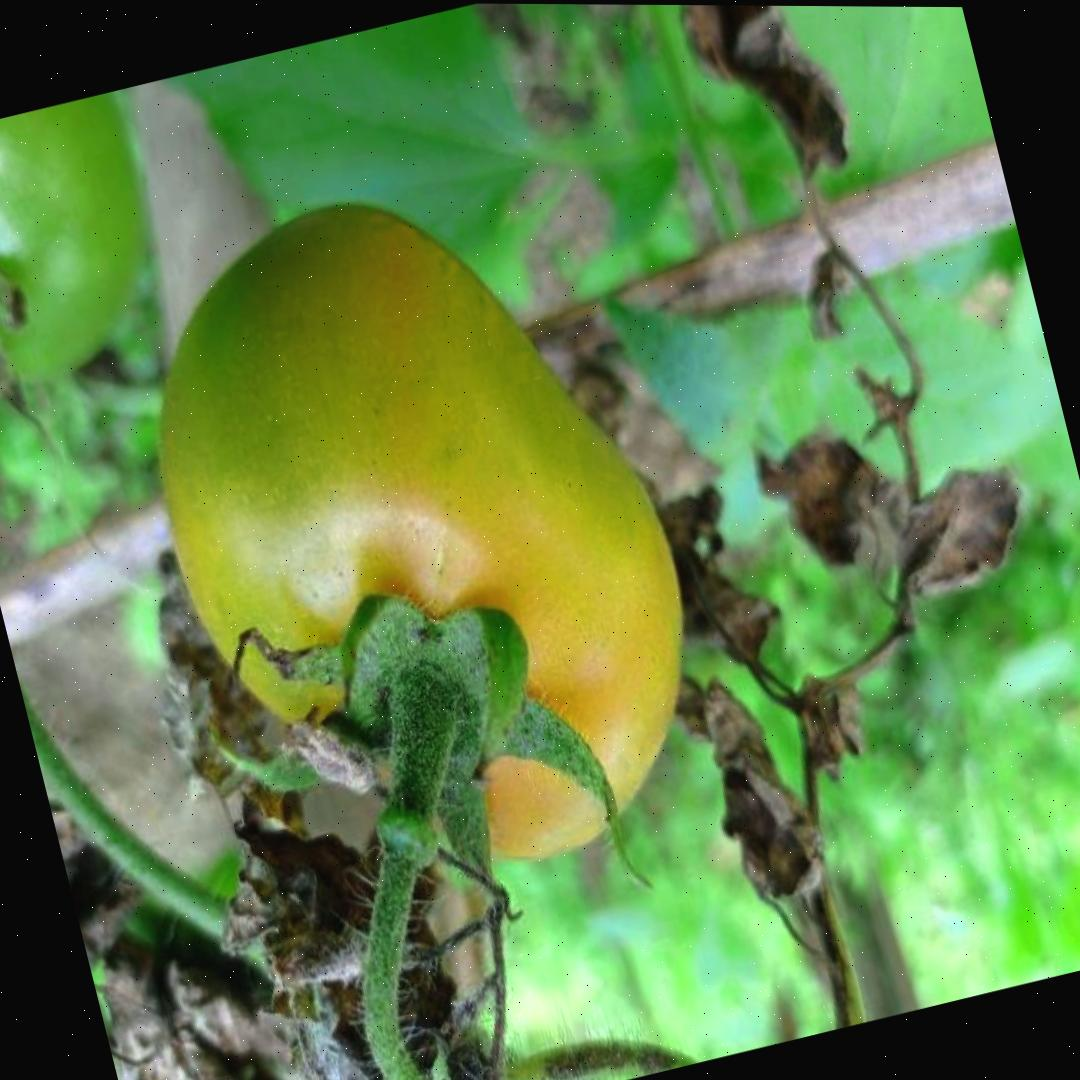setengah_matang: (98, 139, 743, 934)
